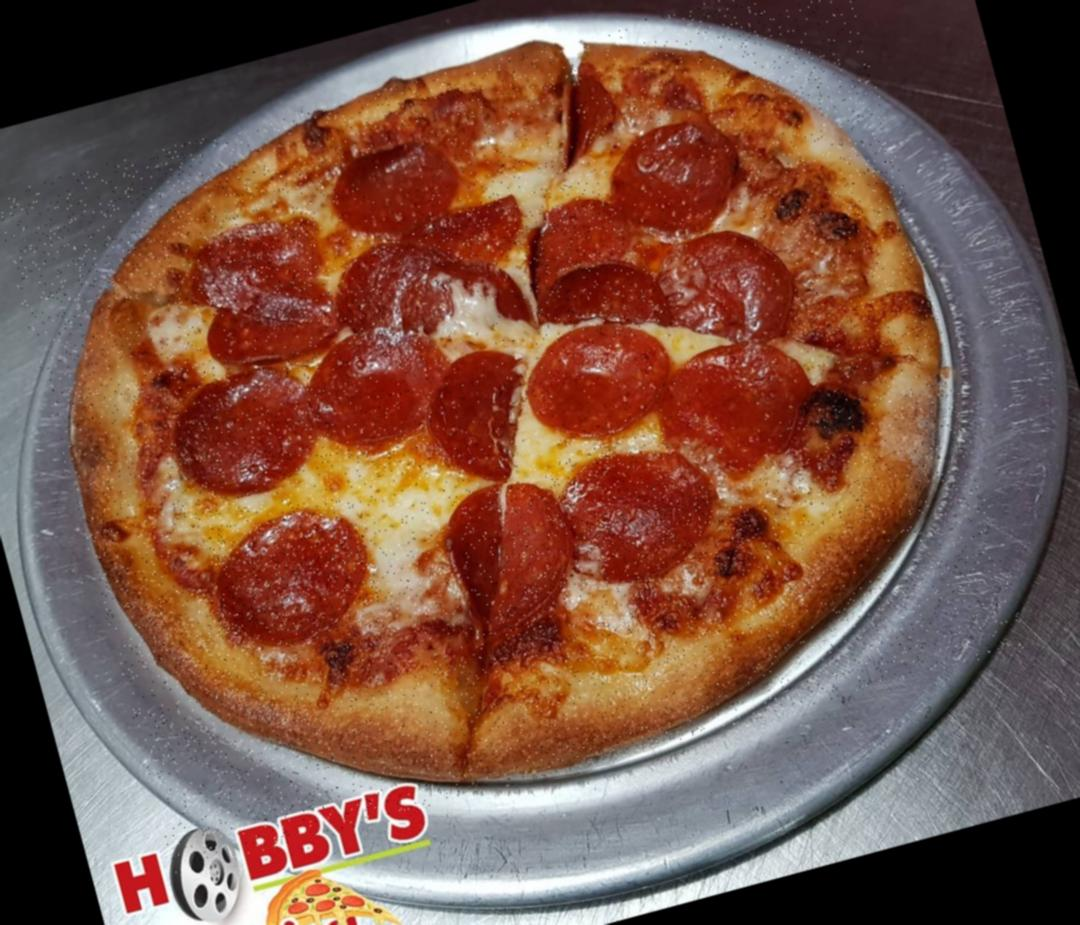Pepperoni: (201, 497, 388, 661), (548, 430, 730, 595), (650, 330, 826, 489), (158, 356, 334, 510), (446, 472, 592, 656), (513, 310, 684, 459), (301, 313, 466, 460), (648, 217, 806, 360), (599, 109, 753, 248), (412, 342, 546, 498), (320, 134, 470, 250), (329, 230, 463, 354), (394, 249, 537, 364), (179, 210, 327, 319), (202, 282, 351, 379), (529, 252, 668, 355), (435, 484, 532, 622), (517, 189, 643, 283), (421, 195, 532, 280)
Pizza: (0, 0, 1027, 874)
